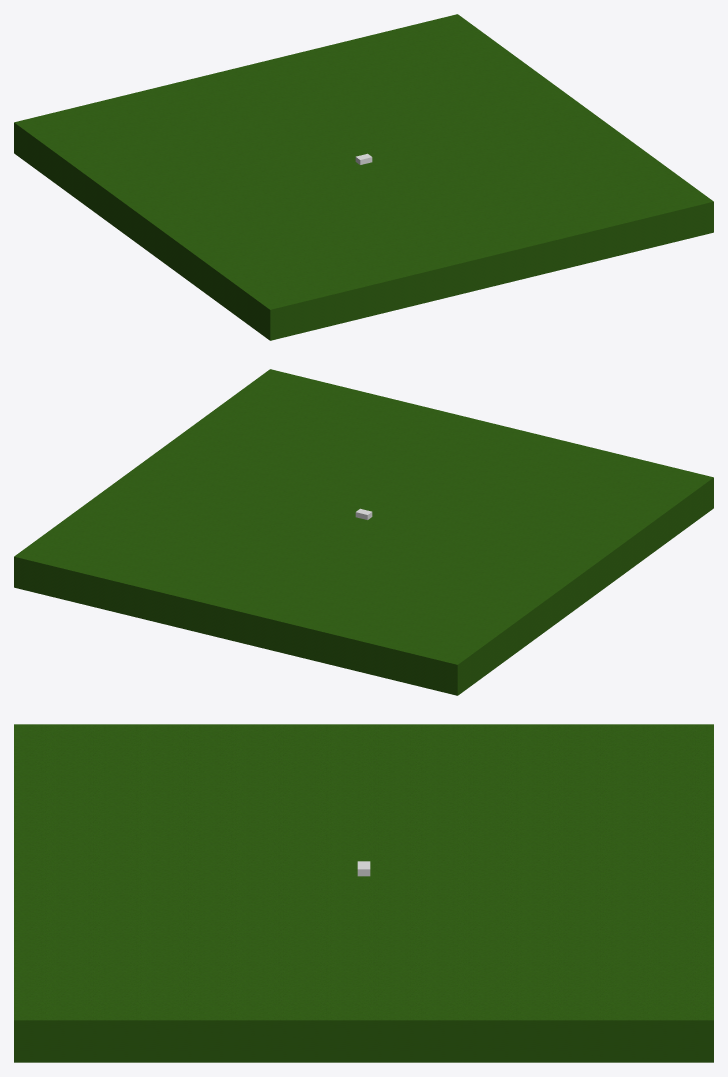
File: ground.glb
3 views of the same model, one above another, from view 1: azimuth 30°, elevation 25°; view 2: azimuth 150°, elevation 25°; view 3: azimuth 270°, elevation 25° (orthographic). The views are drawn at different scales.
Parts seen in each view (by area): view 1: Cube; view 2: Cube; view 3: Cube.
Boxes of the visible parts, left/top/right/bottom form: Cube: left=14, top=14, right=713, bottom=340; Cube: left=14, top=369, right=713, bottom=695; Cube: left=14, top=724, right=713, bottom=1062.
Size of the model in its own units: 600 by 46.61 by 600.
1 material, 1 textured.
